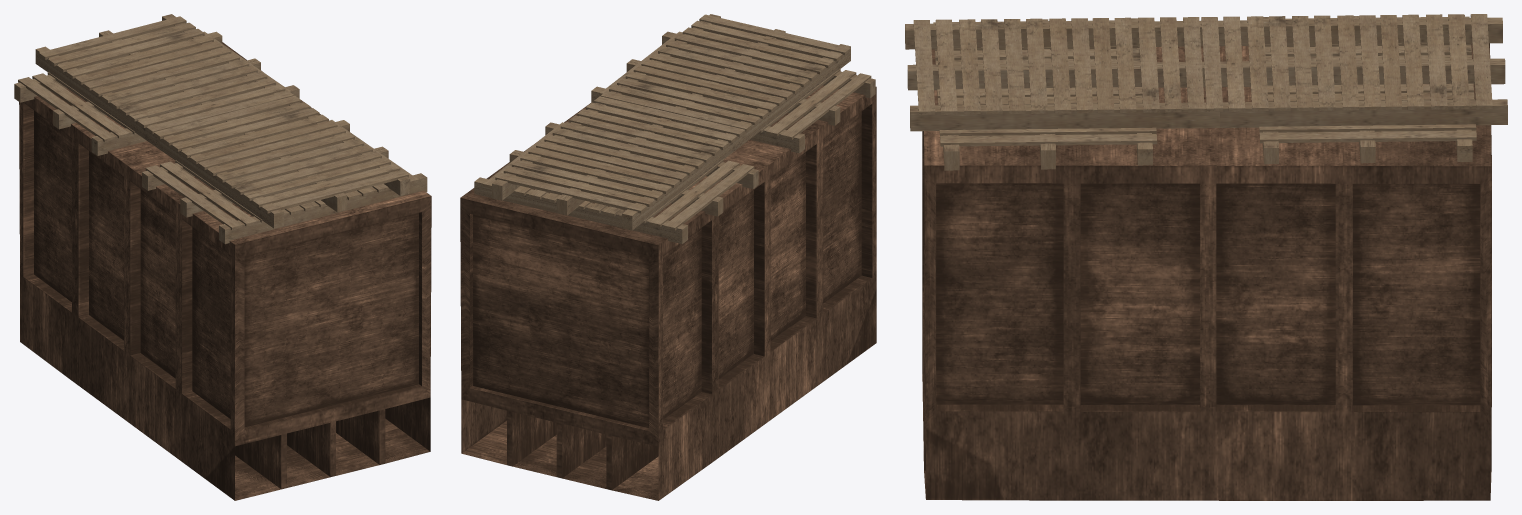
Rendered from ThungGo.fbx.
3 views of the same model, side by side, from view 1: azimuth 30°, elevation 25°; view 2: azimuth 150°, elevation 25°; view 3: azimuth 270°, elevation 25° (orthographic). The views are drawn at different scales.
Parts seen in each view (by area): view 1: Cube.019; view 2: Cube.019; view 3: Cube.019.
Part boxes in pixels (x1,y1,x2,y2): Cube.019: (14,14,431,500); Cube.019: (460,14,876,500); Cube.019: (905,14,1507,500).
Size of what is drawn, in the model's own units: 104 by 133 by 195.
